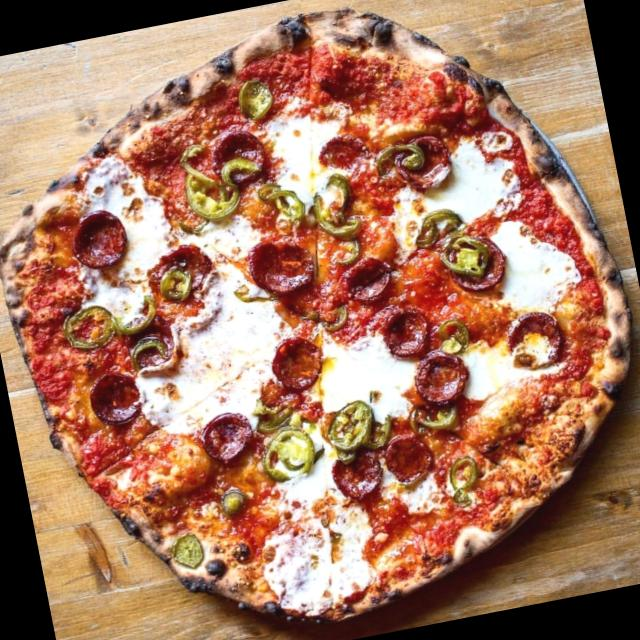pepperoni: (434, 230, 511, 306), (244, 230, 318, 308), (494, 304, 570, 378), (148, 240, 218, 314), (200, 124, 271, 194), (63, 204, 132, 276), (326, 439, 389, 514), (304, 126, 378, 188), (84, 365, 152, 429), (378, 427, 439, 498), (118, 312, 180, 379), (390, 130, 452, 193), (268, 331, 328, 396), (412, 347, 471, 413), (339, 250, 401, 311), (378, 298, 436, 363), (194, 406, 257, 462)
pizza: (0, 8, 634, 625)
